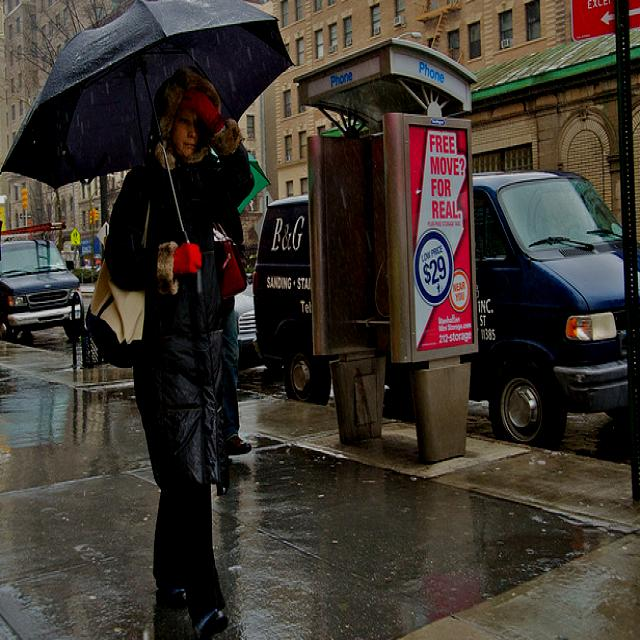Vehicle: (253, 170, 640, 453), (250, 194, 326, 406), (0, 236, 82, 342), (236, 280, 264, 378)
